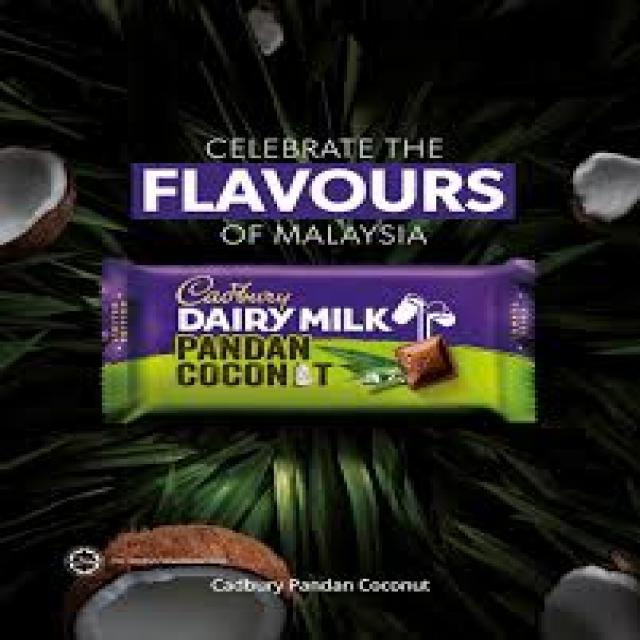cadbury: (77, 248, 543, 432)
